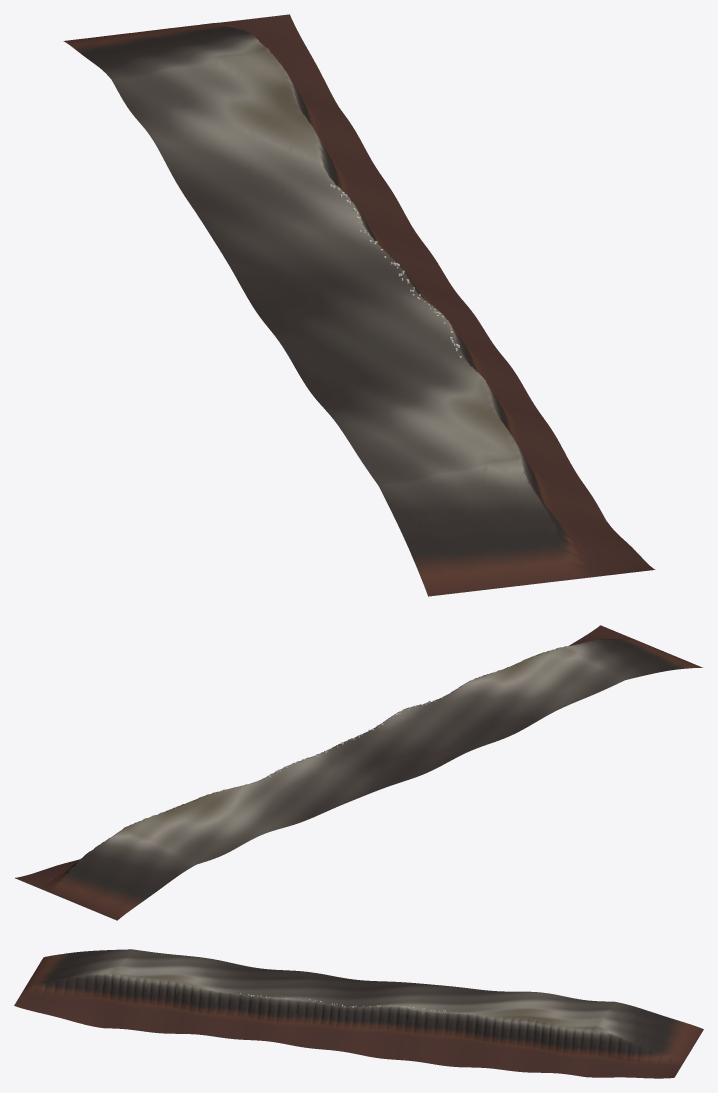
Rendered from santorini_far-COsTkq-J.glb.
3 views of the same model, one above another, from view 1: azimuth 30°, elevation 25°; view 2: azimuth 150°, elevation 25°; view 3: azimuth 270°, elevation 25° (orthographic). The views are drawn at different scales.
Visible parts, largest first — view 1: santorini_thirasia; view 2: santorini_thirasia; view 3: santorini_thirasia.
Part boxes in pixels (x1=…): santorini_thirasia: x1=63, y1=14, x2=655, y2=596; santorini_thirasia: x1=15, y1=625, x2=702, y2=920; santorini_thirasia: x1=14, y1=949, x2=703, y2=1078.
Bounding box in the file's own units: 2173 × 325 × 5269.
3 materials, 1 textured.
